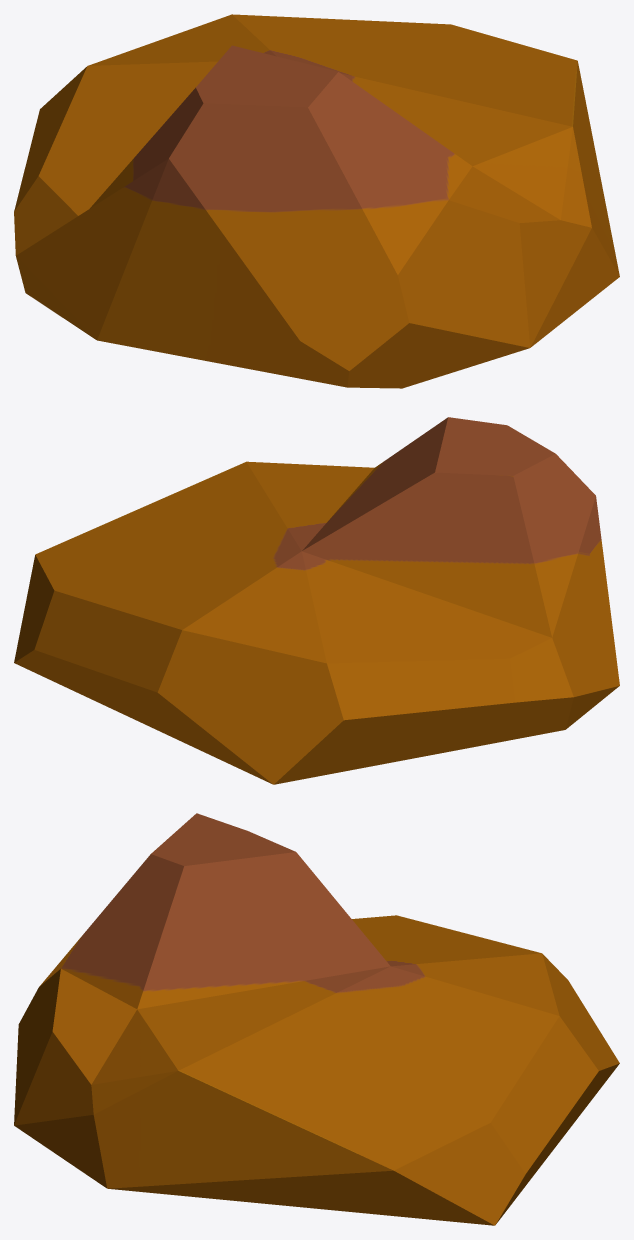
File: cover6.fbx
3 renders of one model, top to bottom at view 1: azimuth 30°, elevation 25°; view 2: azimuth 150°, elevation 25°; view 3: azimuth 270°, elevation 25°, orthographic. The views are drawn at different scales.
Visible parts, largest first — view 1: cover6; view 2: cover6; view 3: cover6.
Boxes of the visible parts, left/top/right/bottom form: cover6: left=14, top=14, right=619, bottom=388; cover6: left=14, top=417, right=619, bottom=784; cover6: left=14, top=813, right=619, bottom=1225.
Size of the model in its own units: 863 by 354 by 839.
